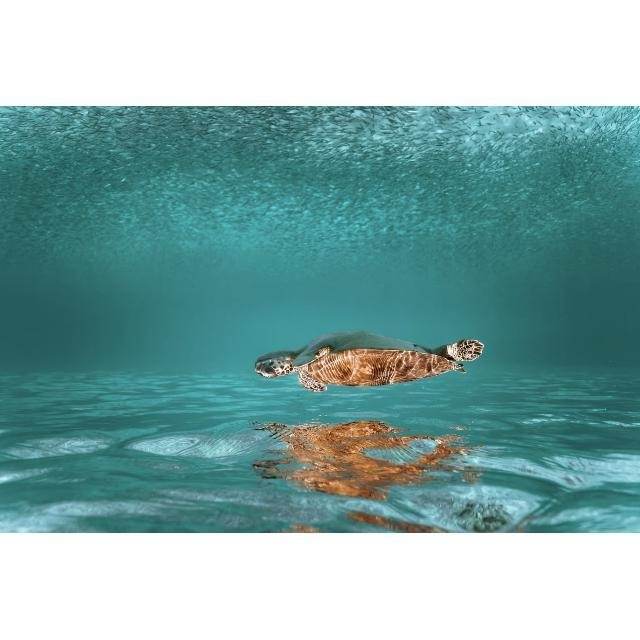turtle: (253, 329, 484, 391)
